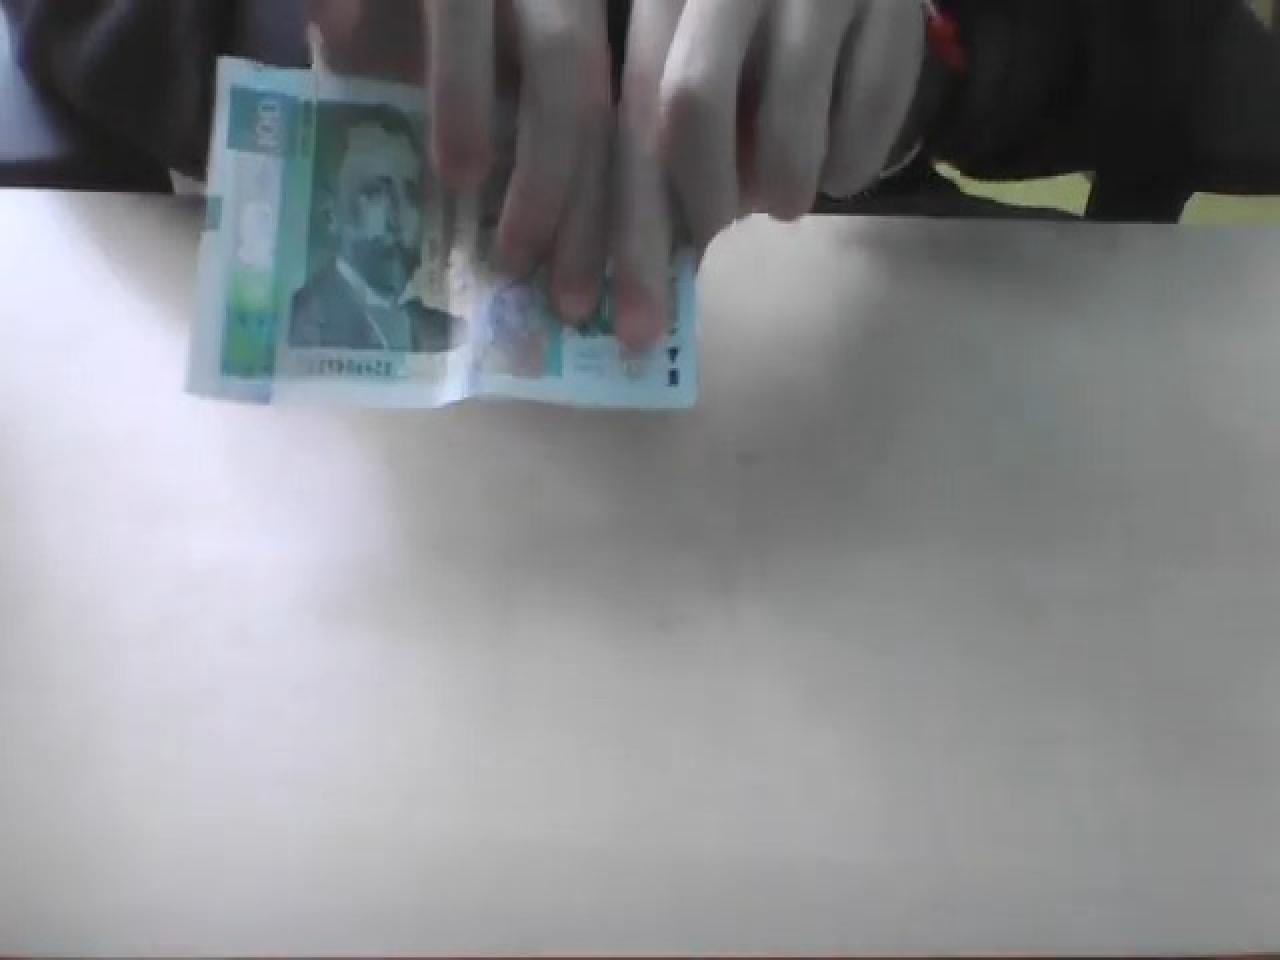100leva: (182, 48, 700, 416), (284, 102, 462, 358)
